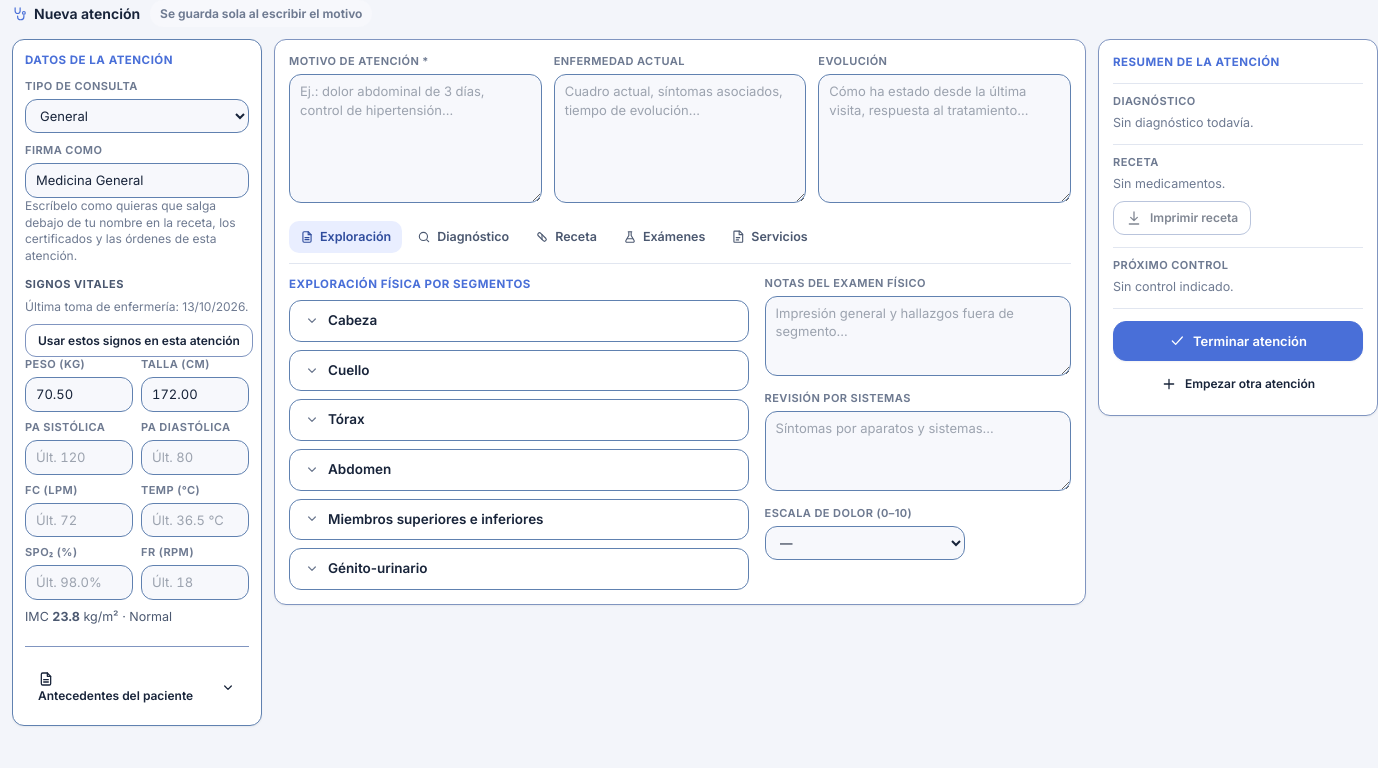
Test case: EncounterSection › lets the doctor use nursing signs saved without an appointment
The width and height of the screenshot is (1378, 768).
Expected: the field labelled "FC (lpm)" is empty, x1=25 y1=503 x2=133 y2=537
Click the button "Usar estos signos en esta atención".
click(139, 340)  # box x1=25 y1=324 x2=253 y2=357
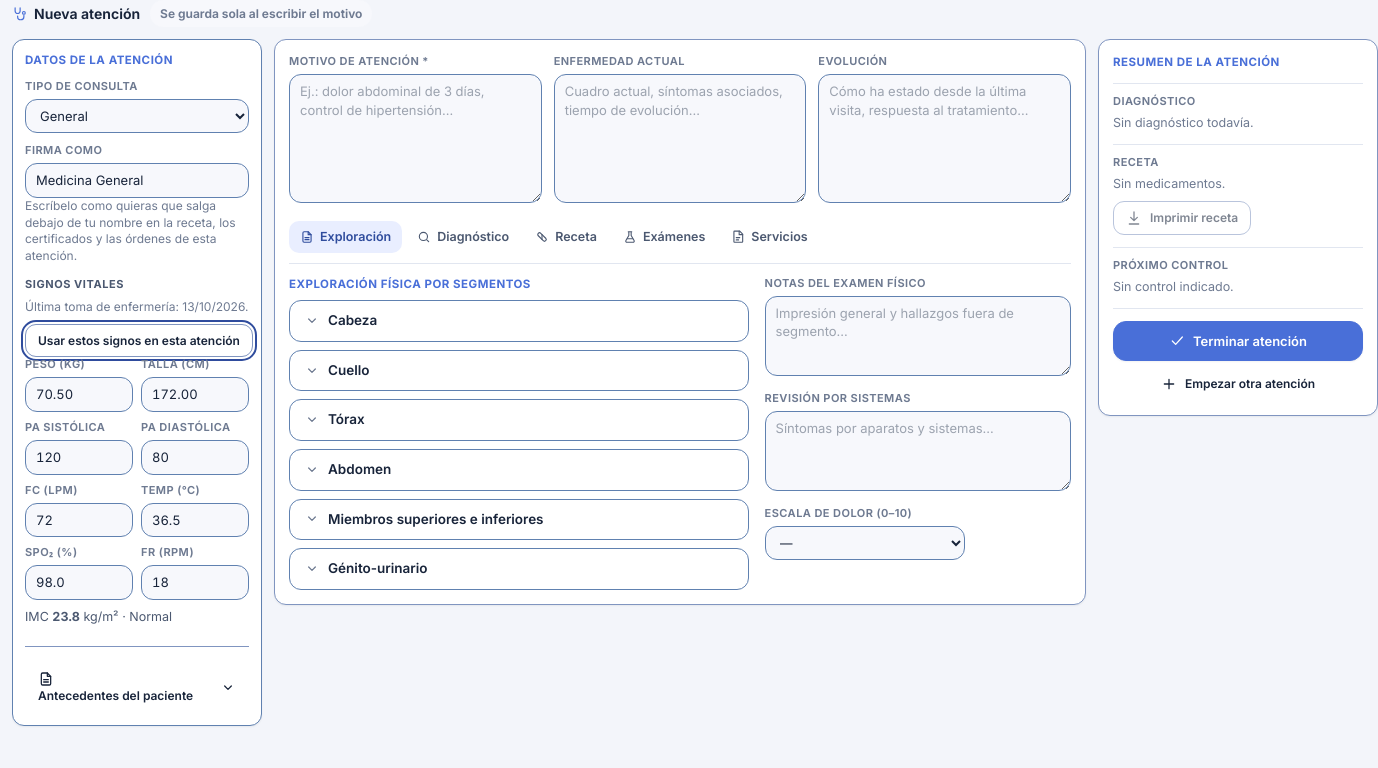
Expected: the field labelled "Peso (kg)" holds "70.50", x1=25 y1=377 x2=133 y2=412
Now the field labelled "FC (lpm)" holds "72", box x1=25 y1=503 x2=133 y2=537
